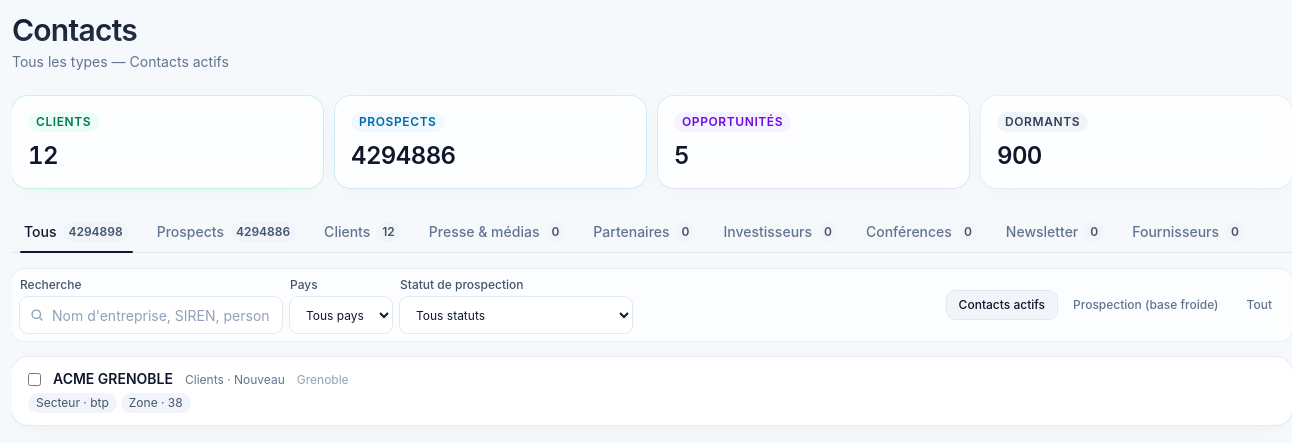
Test: ContactsHubPage — parcours › basculer sur la base froide REQUÊTE `temperature=froids` et change le périmètre affiché
The width and height of the screenshot is (1292, 443).
Expected: the text "ACME GRENOBLE" is shown, [53,369,173,389]
Click the button "Prospection (base froide)": click(1146, 305) [1061,291,1230,319]
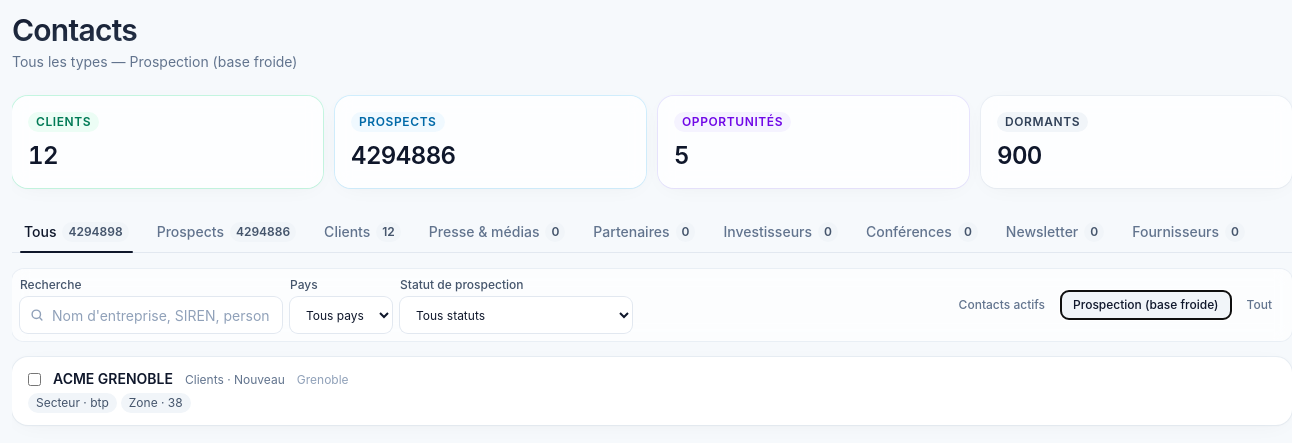
Now the text "Tous les types — Prospection (base froide)" is shown, box [12,53,298,70]
